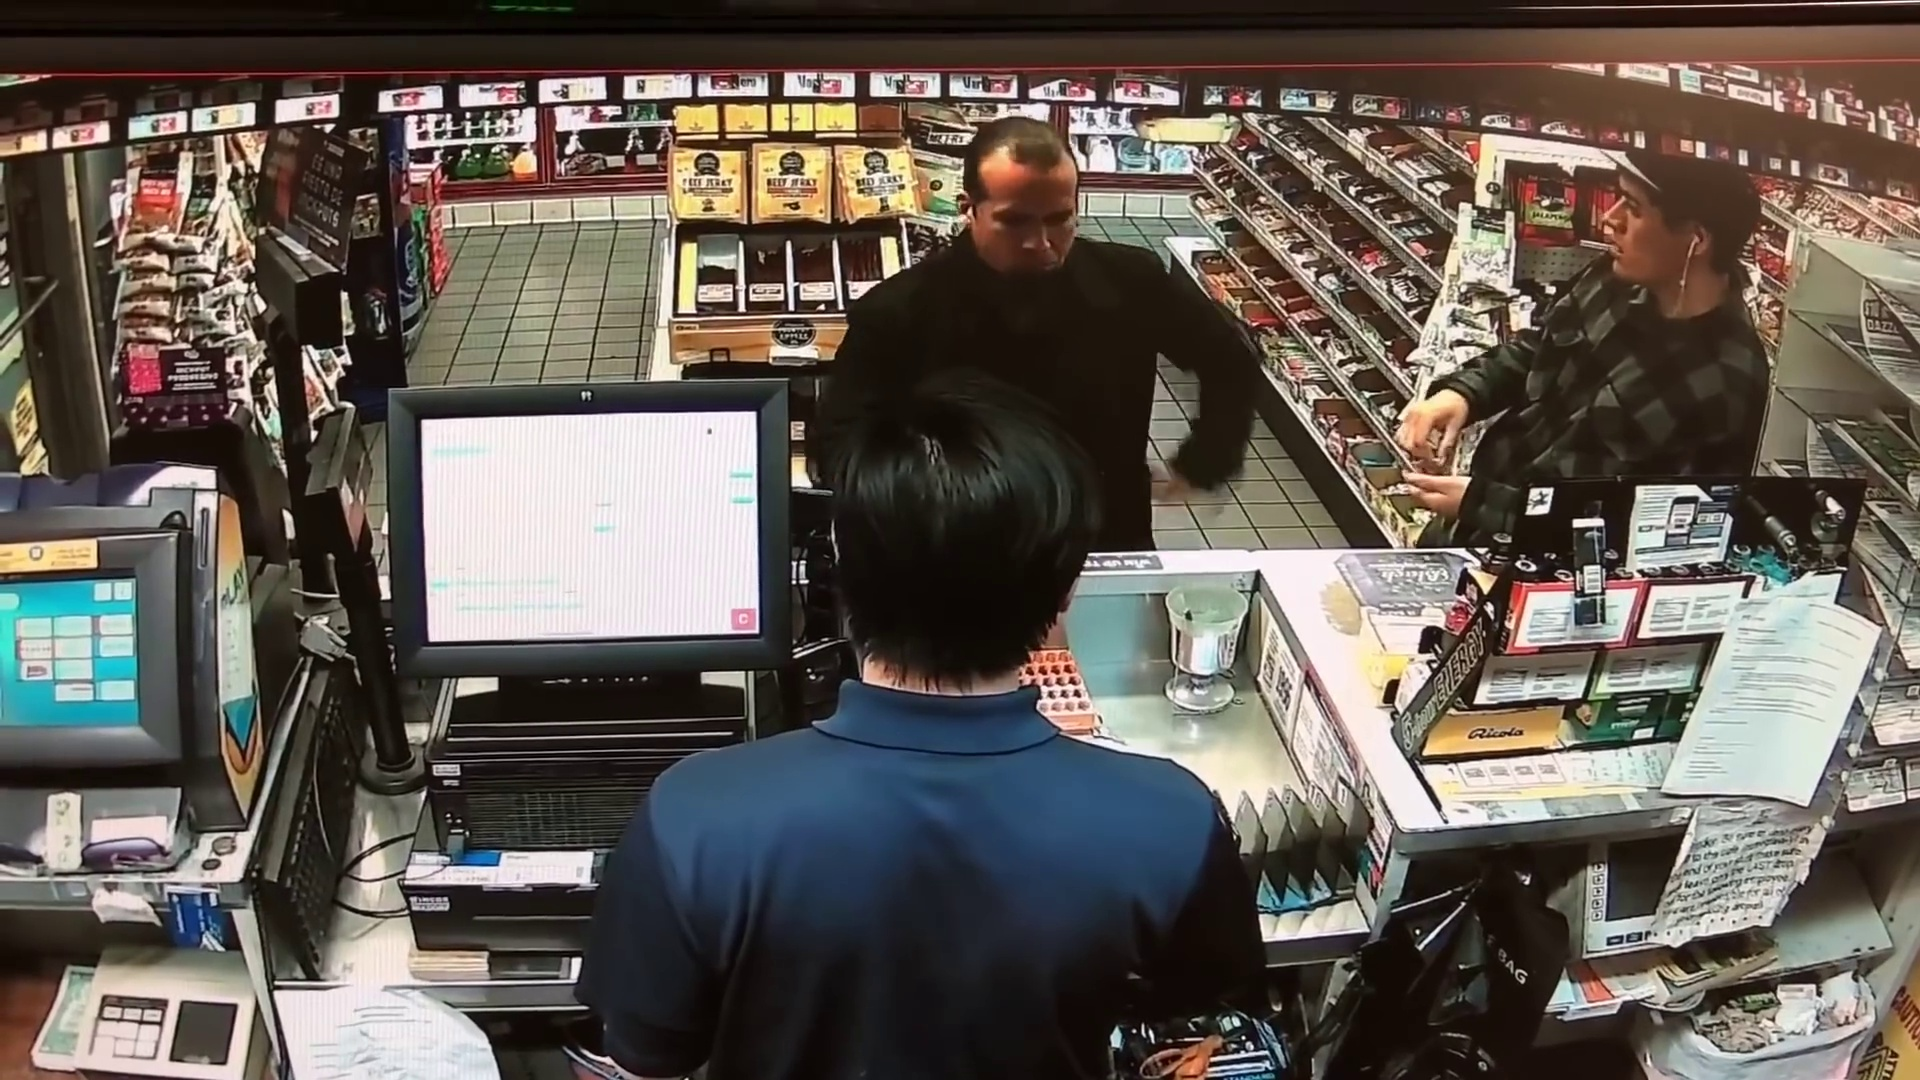face: (1599, 182, 1719, 298), (974, 153, 1078, 279)
